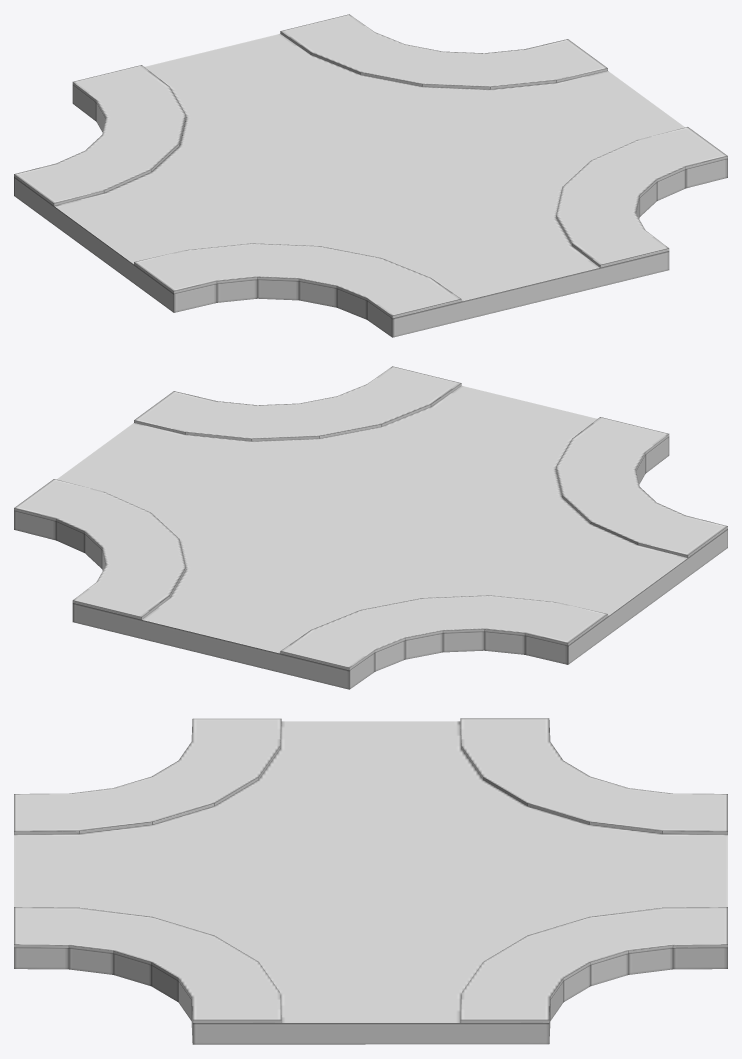
File: Road-08.fbx
3 views of the same model, one above another, from view 1: azimuth 30°, elevation 25°; view 2: azimuth 150°, elevation 25°; view 3: azimuth 270°, elevation 25° (orthographic). The views are drawn at different scales.
Parts seen in each view (by area): view 1: Road_08; view 2: Road_08; view 3: Road_08.
Boxes of the visible parts, box(x1,y1,x2,y2) form: Road_08: box(14, 14, 727, 337); Road_08: box(14, 366, 727, 689); Road_08: box(14, 718, 727, 1044).
Size of the model in its own units: 8 by 0.3 by 8.
